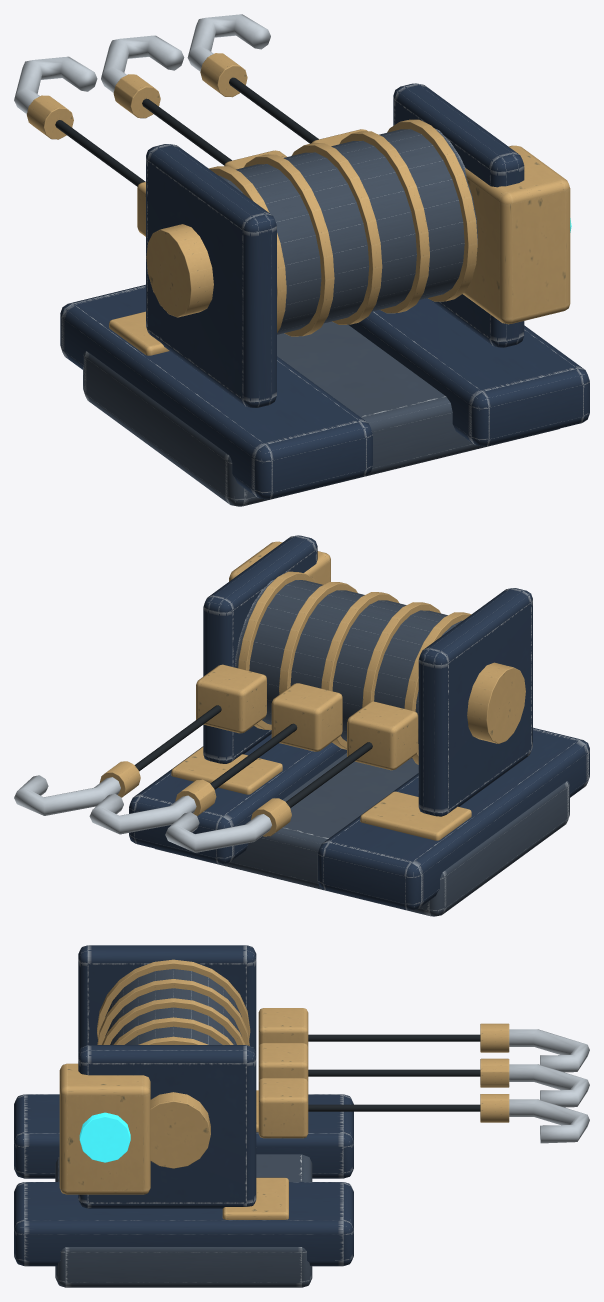
File: restraint_winch.glb
3 views of the same model, one above another, from view 1: azimuth 30°, elevation 25°; view 2: azimuth 150°, elevation 25°; view 3: azimuth 270°, elevation 25° (orthographic). The views are drawn at different scales.
Visible parts, largest first — view 1: restraint_winch__spool, restraint_winch__foot_neg1, restraint_winch__cheek_neg1, restraint_winch__ground_foundation, restraint_winch__foot_1, restraint_winch__gearbox, restraint_winch__cheek_1, restraint_winch__axle_neg1, restraint_winch__reel_groove_1, restraint_winch__reel_groove_3, restraint_winch__reel_groove_4, restraint_winch__reel_groove_2 (+11 smaller); view 2: restraint_winch__cheek_neg1, restraint_winch__foot_neg1, restraint_winch__ground_foundation, restraint_winch__spool, restraint_winch__foot_1, restraint_winch__cheek_1, restraint_winch__fairlead_1, restraint_winch__fairlead_0, restraint_winch__fairlead_2, restraint_winch__axle_neg1, restraint_winch__foot_trim_neg1, restraint_winch__foot_trim_1 (+15 smaller); view 3: restraint_winch__foot_1, restraint_winch__cheek_1, restraint_winch__ground_foundation, restraint_winch__gearbox, restraint_winch__foot_neg1, restraint_winch__cheek_neg1, restraint_winch__spool, restraint_winch__axle_1, restraint_winch__fairlead_2, restraint_winch__hook_2, restraint_winch__hook_0, restraint_winch__hook_1 (+14 smaller).
Part boxes in pixels (x1=…): restraint_winch__spool: x1=219, y1=128, x2=478, y2=334; restraint_winch__foot_neg1: x1=60, y1=284, x2=372, y2=499; restraint_winch__cheek_neg1: x1=146, y1=144, x2=276, y2=407; restraint_winch__ground_foundation: x1=83, y1=321, x2=559, y2=506; restraint_winch__foot_1: x1=348, y1=298, x2=589, y2=446; restraint_winch__gearbox: x1=463, y1=145, x2=570, y2=324; restraint_winch__cheek_1: x1=393, y1=83, x2=524, y2=347; restraint_winch__axle_neg1: x1=146, y1=224, x2=213, y2=317; restraint_winch__reel_groove_1: x1=244, y1=154, x2=334, y2=336; restraint_winch__reel_groove_3: x1=339, y1=131, x2=429, y2=313; restraint_winch__reel_groove_4: x1=387, y1=119, x2=477, y2=301; restraint_winch__reel_groove_2: x1=291, y1=143, x2=382, y2=324; restraint_winch__cheek_neg1: x1=418, y1=588, x2=532, y2=816; restraint_winch__foot_neg1: x1=317, y1=727, x2=589, y2=910; restraint_winch__ground_foundation: x1=155, y1=753, x2=569, y2=916; restraint_winch__spool: x1=235, y1=579, x2=462, y2=759; restraint_winch__foot_1: x1=129, y1=734, x2=346, y2=864; restraint_winch__cheek_1: x1=203, y1=535, x2=317, y2=763; restraint_winch__fairlead_1: x1=347, y1=701, x2=418, y2=770; restraint_winch__fairlead_0: x1=271, y1=683, x2=342, y2=751; restraint_winch__fairlead_2: x1=196, y1=664, x2=266, y2=733; restraint_winch__axle_neg1: x1=467, y1=662, x2=525, y2=743; restraint_winch__foot_trim_neg1: x1=360, y1=791, x2=471, y2=840; restraint_winch__foot_trim_1: x1=171, y1=747, x2=282, y2=794; restraint_winch__foot_1: x1=14, y1=1182, x2=353, y2=1266; restraint_winch__cheek_1: x1=78, y1=1045, x2=256, y2=1208; restraint_winch__ground_foundation: x1=55, y1=1154, x2=312, y2=1287; restraint_winch__gearbox: x1=59, y1=1063, x2=150, y2=1194; restraint_winch__foot_neg1: x1=14, y1=1094, x2=353, y2=1178; restraint_winch__cheek_neg1: x1=78, y1=945, x2=256, y2=1053; restraint_winch__spool: x1=105, y1=969, x2=241, y2=1044; restraint_winch__axle_1: x1=150, y1=1092, x2=210, y2=1168; restraint_winch__fairlead_2: x1=258, y1=1078, x2=308, y2=1138; restraint_winch__hook_2: x1=509, y1=1099, x2=589, y2=1143; restraint_winch__hook_0: x1=509, y1=1064, x2=589, y2=1107; restraint_winch__hook_1: x1=509, y1=1029, x2=589, y2=1072.
Bounding box in the file's own units: 0.813 × 0.6 × 1.39.
2 materials, 2 textured.
